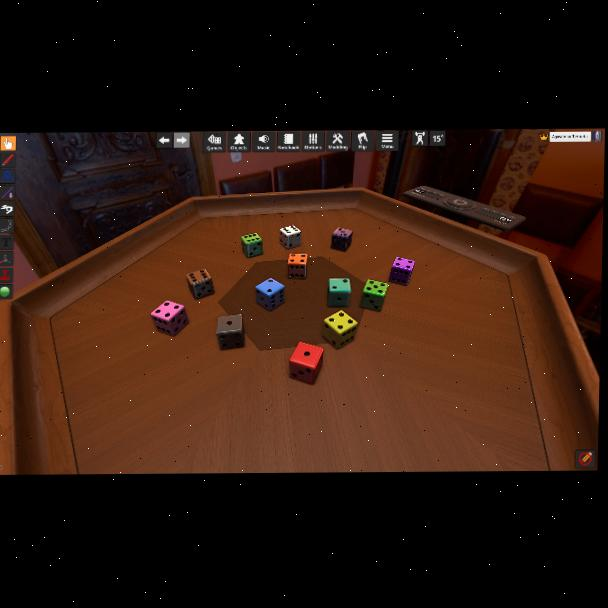d6: (150, 300, 189, 337), (289, 342, 323, 384), (322, 311, 357, 350), (216, 315, 245, 351), (256, 278, 285, 312), (186, 269, 213, 300), (361, 281, 386, 312), (327, 278, 350, 309), (388, 258, 412, 286), (240, 234, 263, 259), (278, 225, 301, 250), (331, 227, 352, 252), (287, 253, 307, 279)
